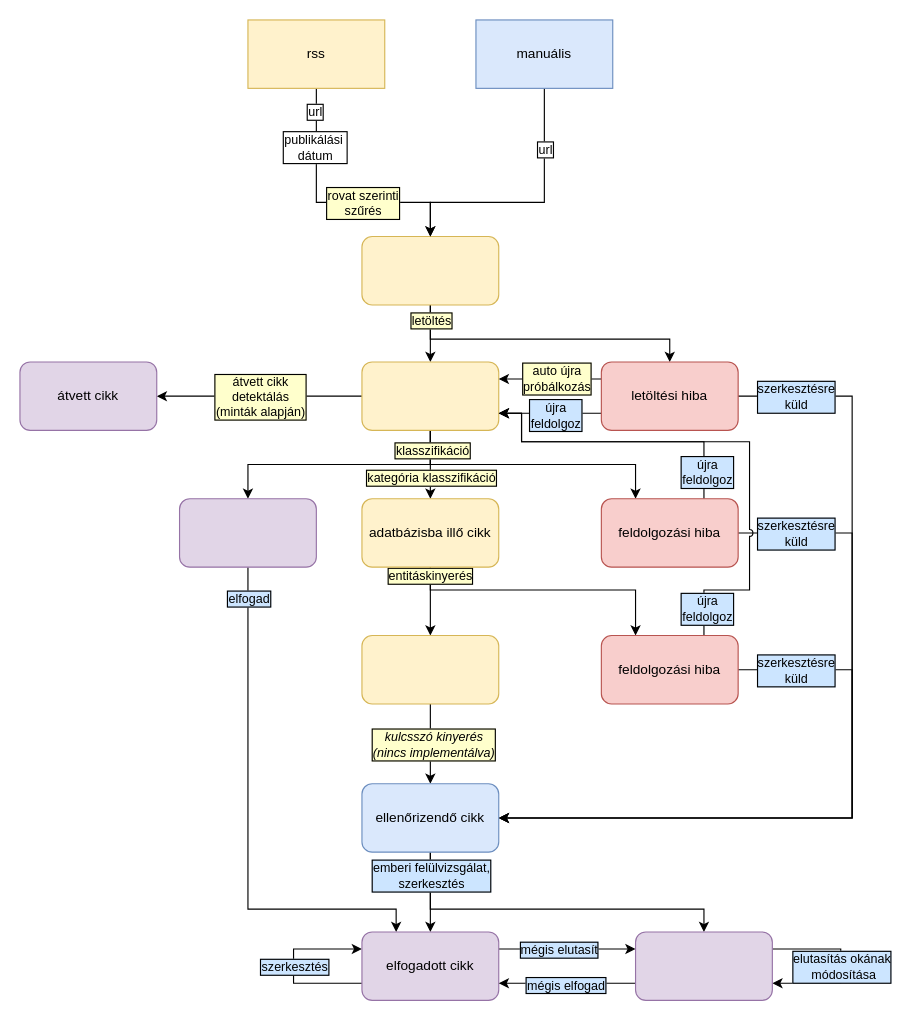
Image size: 911x1020. Some labels were removed from this diagram. Here are the shapes that lost their labels. From the top down, the centre of each, then its label:
the point at 430,270: bekerült cikk
the point at 430,395: letöltött cikk (cím, lead, szöveg, stb.)
the point at 247,532: nem illik az adatbázisba
the point at 430,669: cikk entitásokkal
the point at 703,965: elutasított cikk
